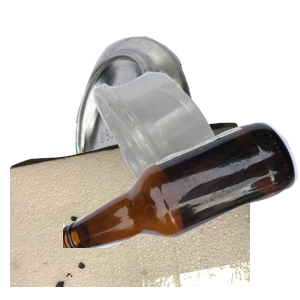glass: (63, 120, 300, 300)
metal: (73, 34, 285, 214)
plastic: (91, 69, 300, 249)
trash: (10, 120, 250, 300)
